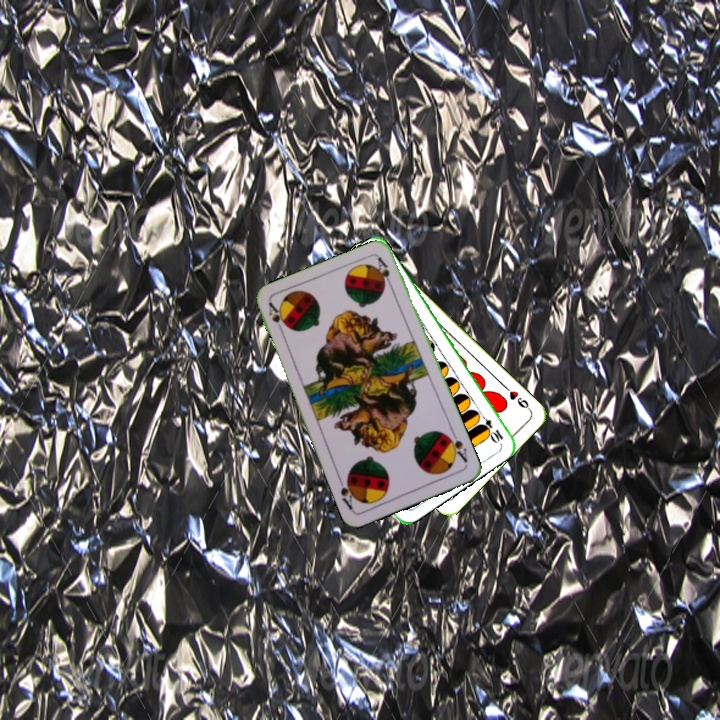E10: (475, 409, 506, 445)
H9: (500, 382, 533, 413)
SA: (442, 428, 470, 465), (264, 298, 289, 337)
